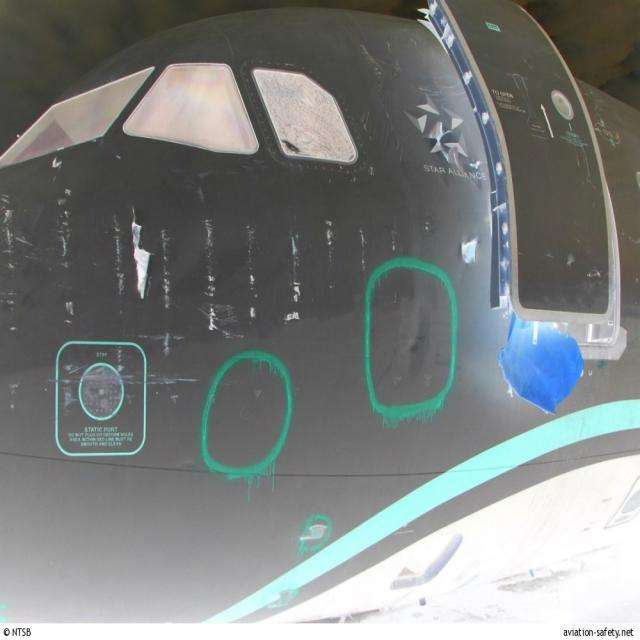crack: (122, 203, 163, 302)
